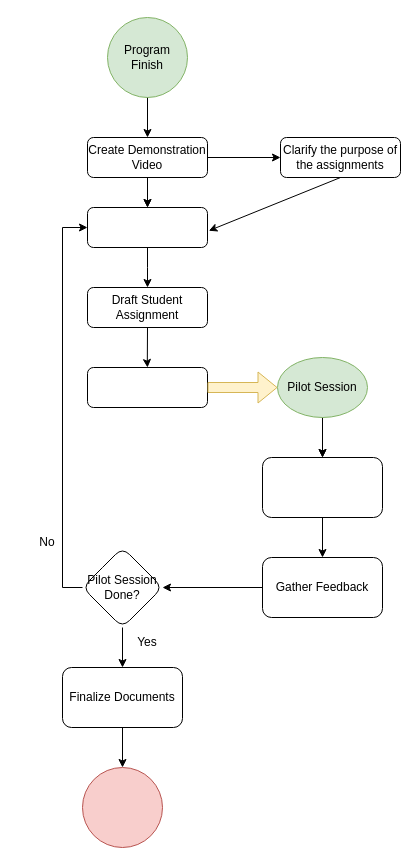
This 418x865 diagram has some shape labels left out. The box of each missing label's shape, as (x1, y1, x2, y2) in pixels:
Draft Task List during performance: (86, 206, 208, 248)
Draft Teacher Guide: (86, 366, 208, 408)
Q&A and Introduction PPT: (82, 766, 162, 848)
Session Test: (262, 456, 382, 518)
